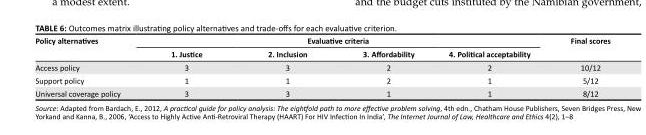table: (34, 34, 609, 97)
table column: (430, 34, 549, 97), (34, 34, 145, 97), (234, 34, 334, 97), (334, 34, 430, 97), (145, 34, 234, 97), (549, 34, 609, 97)
table column header: (34, 34, 609, 60)
table row: (34, 46, 609, 60), (34, 60, 609, 73), (34, 73, 609, 86), (34, 34, 609, 46), (34, 86, 609, 97)
table spanning cell: (145, 34, 549, 46), (34, 34, 145, 60), (549, 34, 609, 60)
